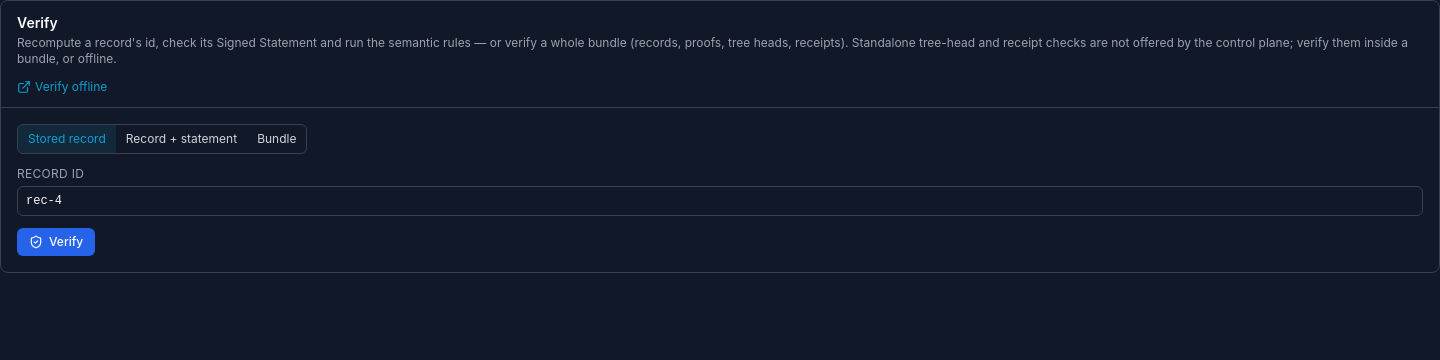
Test: VerifyPanel › shows an unreachable control plane the same way
Click the button with test id "verify-run". click: (56, 242)
box: [17,228,95,256]
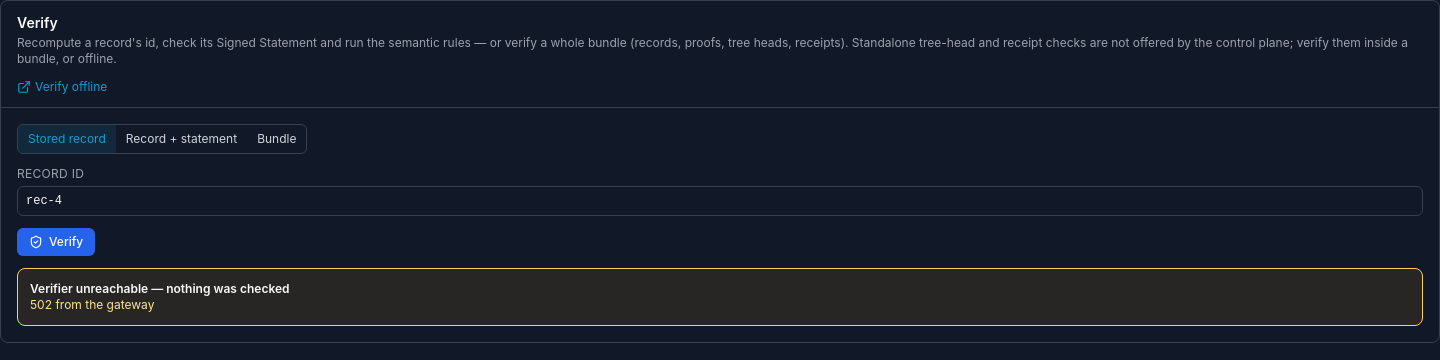
Expected: the element with test id "verify-result" shows "Verifier unreachable — nothing was checked", [30,281,290,296]
Expected: the element with test id "verify-result" shows "502 from the gateway", [30,297,154,312]
